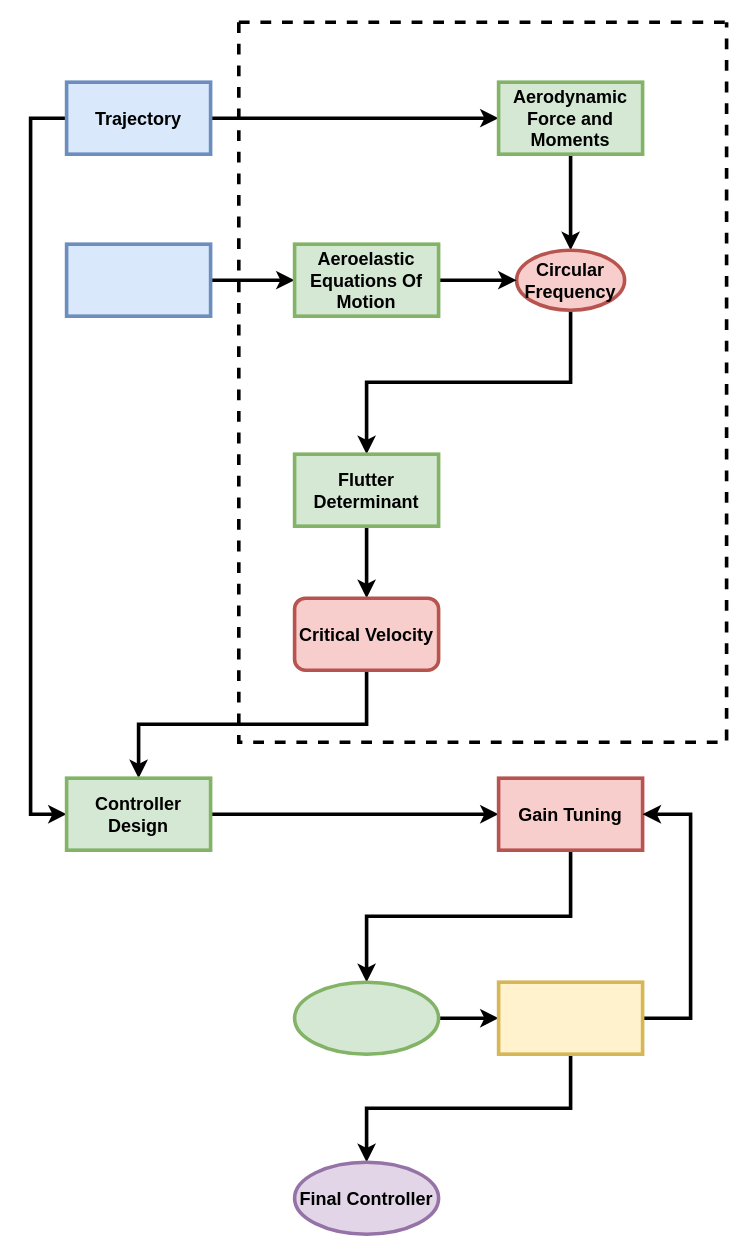
Image size: 749x1256. Some labels were removed from this diagram. The box of each missing label's shape, as (x1, y1, x2, y2) in pixels:
Simulation 1: (236, 20, 728, 743)
Tuned Controller: (292, 980, 440, 1055)
Verify: (496, 980, 644, 1055)
Wing Model: (64, 242, 212, 317)
